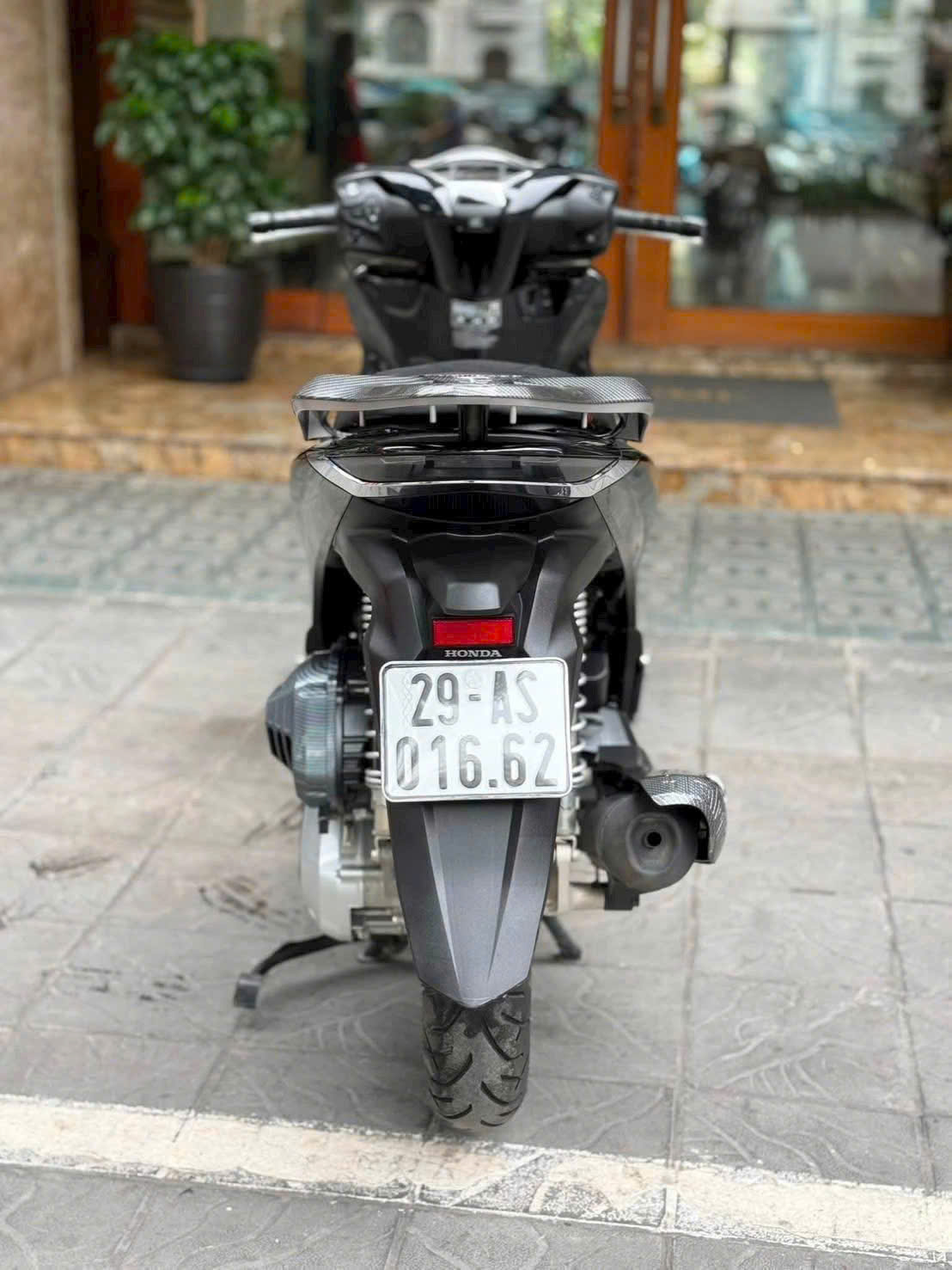Bien-so: (384, 650, 577, 818)
